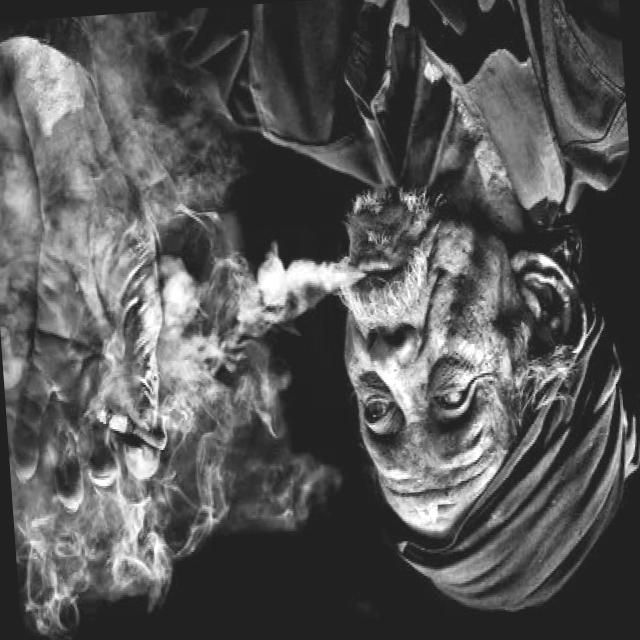smoke: (90, 397, 170, 456)
